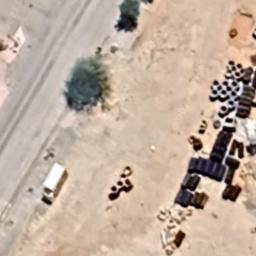truck: (40, 162, 66, 202)
